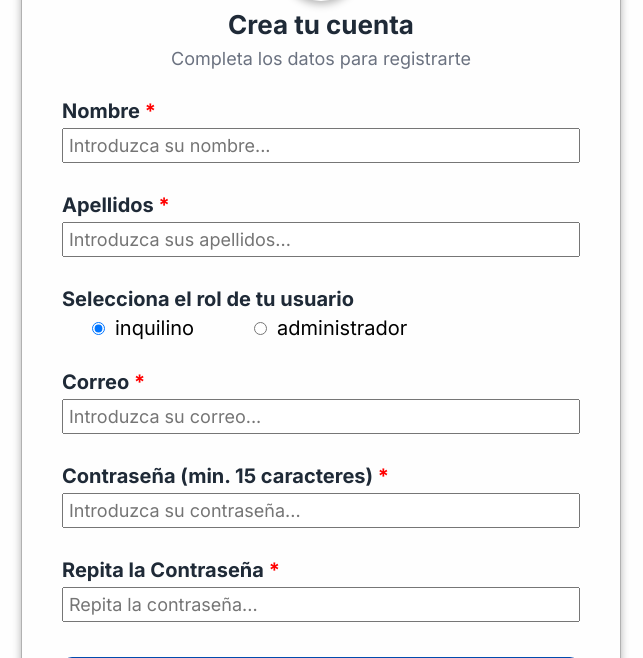
Scenario: SignUpForm component test suite › Should display error messages if the fields are incorrect
Type "a" into the field named "name-input" at (321, 146), box left=62, top=128, right=580, bottom=163
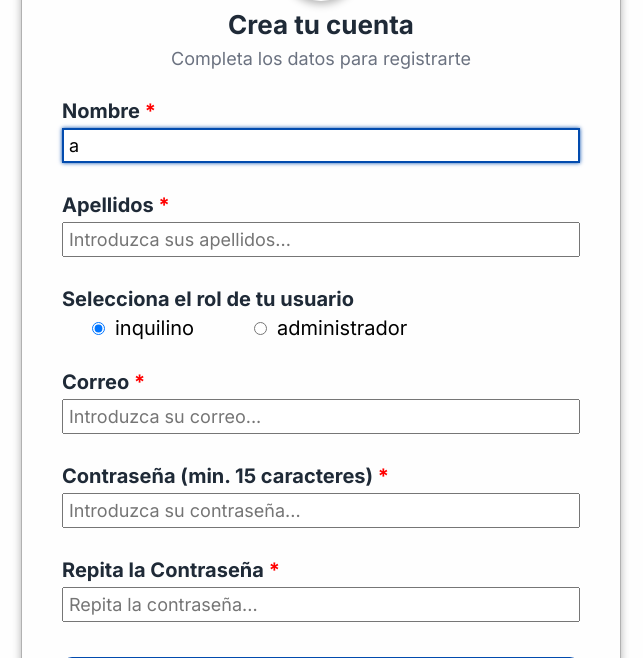
Type "a" into the field named "surname-input" at (321, 240), box left=62, top=222, right=580, bottom=257
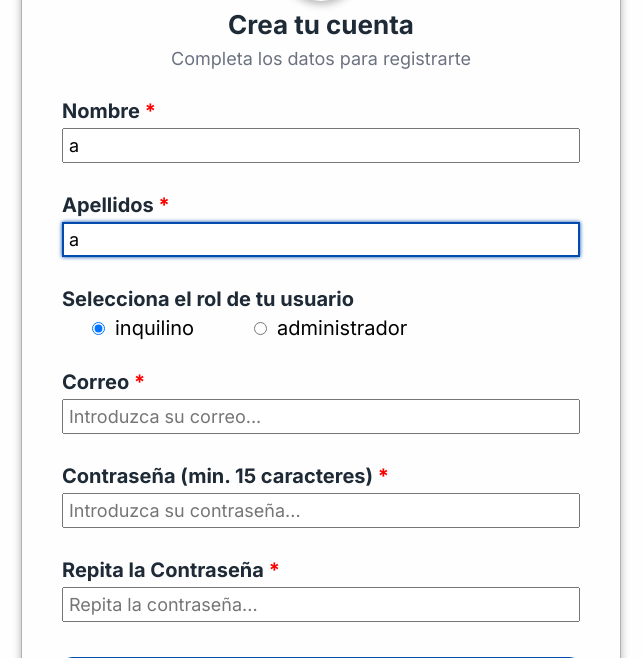
Type "email@email.c" into the field named "email-input" at (321, 416), box left=62, top=399, right=580, bottom=434
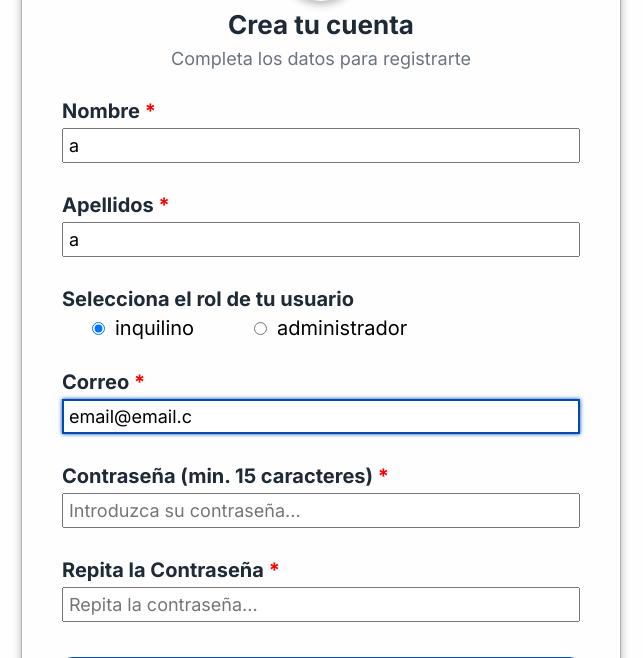
Type "blablalbal" into the password field named "password-input" at (321, 510), box left=62, top=493, right=580, bottom=528
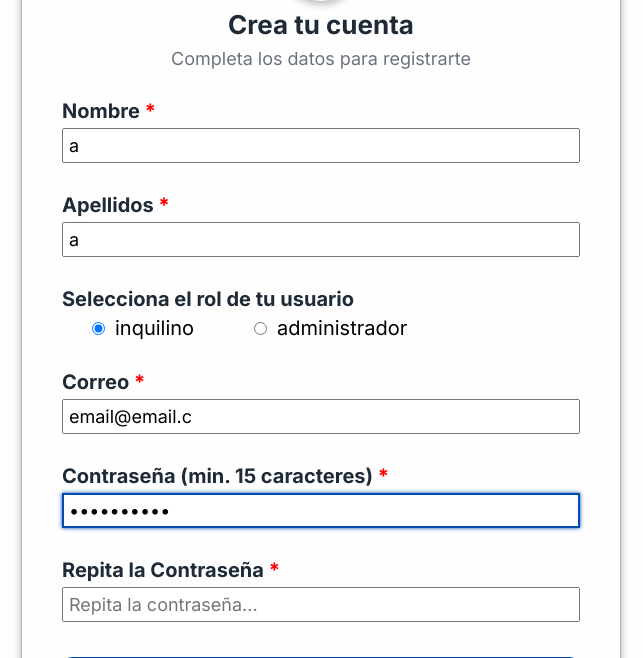
Type "blabuieon" into the password field named "repeat-input" at (321, 604), box left=62, top=587, right=580, bottom=622
(page scrolled)
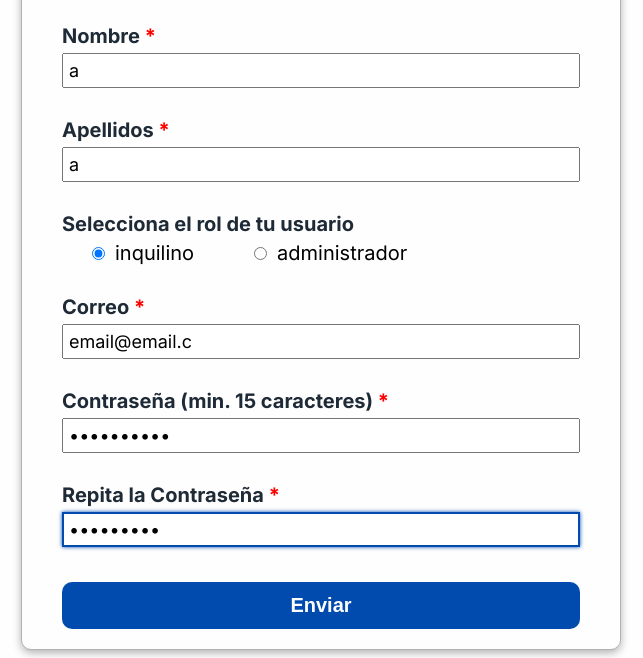
Click the button at (321, 606), box left=62, top=582, right=580, bottom=629
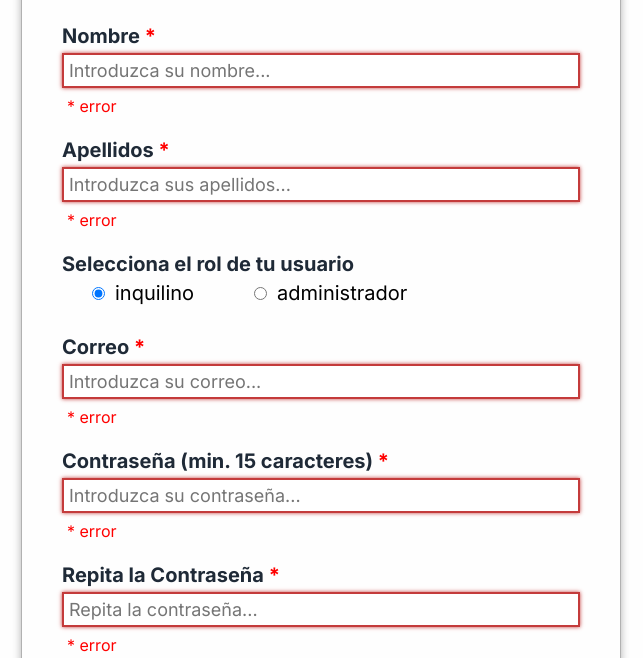
Result: the number of messages is 5 at left=67, top=96, right=116, bottom=116; left=67, top=210, right=116, bottom=230; left=67, top=407, right=116, bottom=427; left=67, top=521, right=116, bottom=541; left=67, top=635, right=116, bottom=655
Result: the field named "name-input" is empty at left=62, top=53, right=580, bottom=88
Result: the field named "surname-input" is empty at left=62, top=167, right=580, bottom=202
